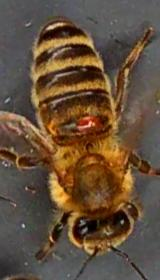varroa_mite: (72, 110, 105, 136)
